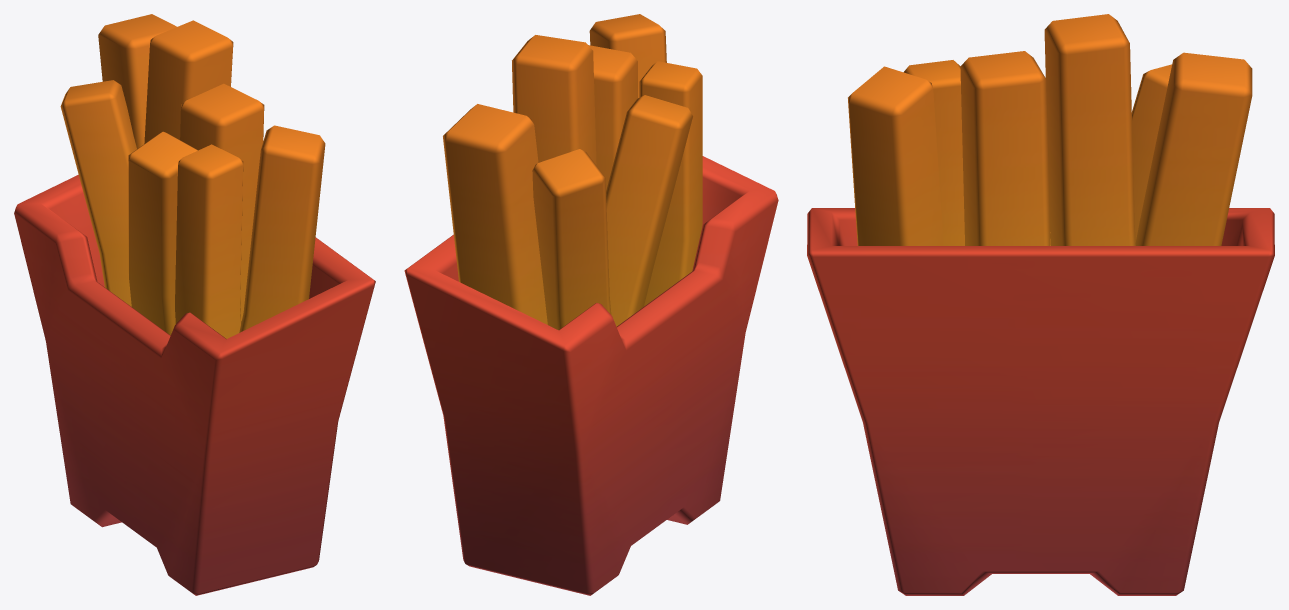
The model's file is French Fries.fbx.
3 views of the same model, side by side, from view 1: azimuth 30°, elevation 25°; view 2: azimuth 150°, elevation 25°; view 3: azimuth 270°, elevation 25° (orthographic). The views are drawn at different scales.
Visible parts, largest first — view 1: French Fries; view 2: French Fries; view 3: French Fries.
Boxes of the visible parts, x1,y1,x2,y2 form: French Fries: (14, 14, 375, 595); French Fries: (404, 14, 778, 595); French Fries: (807, 14, 1274, 595).
Bounding box in the file's own units: 9.72 × 27.9 × 21.68.
